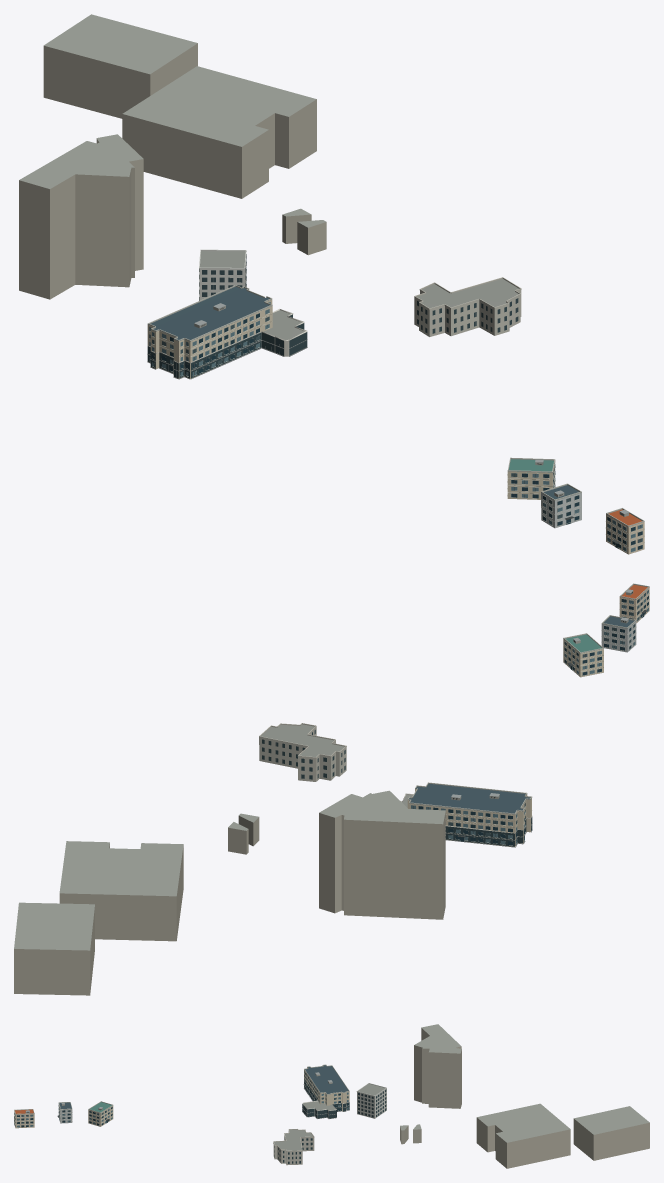
Rendered from zone_1_3-medium.glb.
3 views of the same model, one above another, from view 1: azimuth 30°, elevation 25°; view 2: azimuth 150°, elevation 25°; view 3: azimuth 270°, elevation 25° (orthographic). The views are drawn at different scales.
Parts seen in each view (by area): view 1: web_building_135787390, web_building_885812200, web_building_135787393, web_building_255891621, web_building_255891597, web_building_255891590, web_building_135787366, web_building_198965334, web_building_198965333, web_building_198965332, web_building_174307328; view 2: web_building_885812200, web_building_135787390, web_building_135787393, web_building_255891621, web_building_255891597, web_building_198965334, web_building_198965333, web_building_255891590, web_building_198965332, web_building_1554329277; view 3: web_building_135787390, web_building_885812200, web_building_135787393, web_building_255891621, web_building_255891597, web_building_135787366, web_building_255891590, web_building_198965334, web_building_198965332, web_building_198965333.
Boxes of the visible parts, <box> form: web_building_135787390: <box>122,66,316,198</box>; web_building_885812200: <box>19,134,143,299</box>; web_building_135787393: <box>43,14,197,118</box>; web_building_255891621: <box>147,285,272,378</box>; web_building_255891597: <box>414,277,521,336</box>; web_building_255891590: <box>147,308,307,379</box>; web_building_135787366: <box>199,249,246,300</box>; web_building_198965334: <box>507,457,555,499</box>; web_building_198965333: <box>541,483,581,528</box>; web_building_198965332: <box>606,508,644,554</box>; web_building_174307328: <box>297,220,326,255</box>; web_building_885812200: <box>319,790,445,919</box>; web_building_135787390: <box>59,841,183,941</box>; web_building_135787393: <box>14,902,94,995</box>; web_building_255891621: <box>407,782,532,846</box>; web_building_255891597: <box>259,723,346,781</box>; web_building_198965334: <box>563,633,603,677</box>; web_building_198965333: <box>601,615,636,652</box>; web_building_255891590: <box>401,793,532,847</box>; web_building_198965332: <box>619,583,649,623</box>; web_building_1554329277: <box>228,822,248,854</box>; web_building_135787390: <box>476,1103,570,1168</box>; web_building_885812200: <box>414,1024,461,1108</box>; web_building_135787393: <box>573,1106,649,1160</box>; web_building_255891621: <box>304,1064,349,1111</box>; web_building_255891597: <box>273,1129,314,1165</box>; web_building_135787366: <box>356,1083,386,1118</box>; web_building_255891590: <box>302,1080,349,1118</box>; web_building_198965334: <box>88,1101,113,1126</box>; web_building_198965332: <box>14,1109,34,1128</box>; web_building_198965333: <box>57,1102,72,1123</box>.
Bounding box in the file's own units: 173 × 50.27 × 521.
